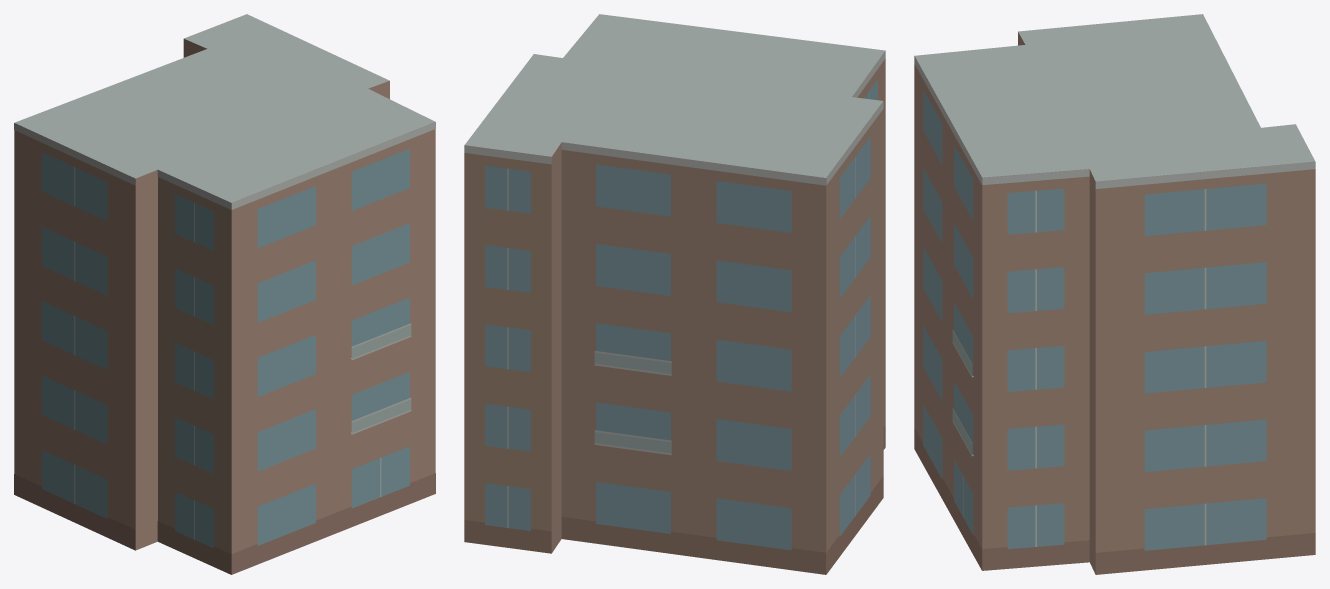
File: survey-upis-32705627.glb
3 renders of one model, left to right at view 1: azimuth 30°, elevation 25°; view 2: azimuth 150°, elevation 25°; view 3: azimuth 270°, elevation 25°, orthographic. The views are drawn at different scales.
Visible parts, largest first — view 1: survey-upis-32705627.tmp; view 2: survey-upis-32705627.tmp; view 3: survey-upis-32705627.tmp.
Part boxes in pixels (x1,y1,x2,y2): survey-upis-32705627.tmp: (14, 14, 435, 574); survey-upis-32705627.tmp: (464, 14, 885, 574); survey-upis-32705627.tmp: (914, 14, 1315, 574).
Bounding box in the file's own units: 11.62 × 12.7 × 11.75.
